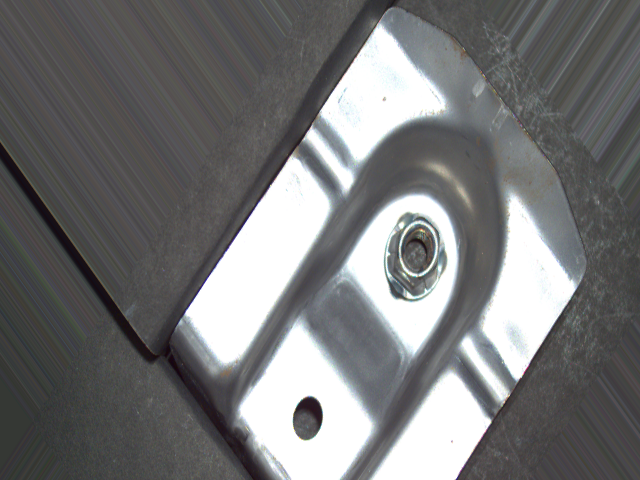good: (381, 209, 451, 305)
